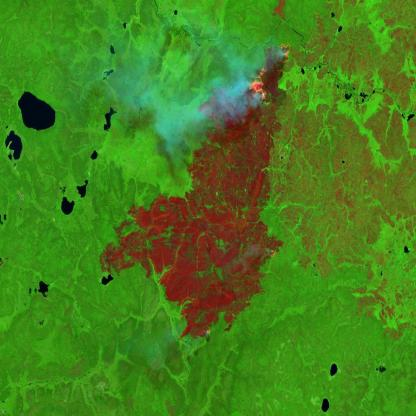fire: (234, 32, 294, 108)
